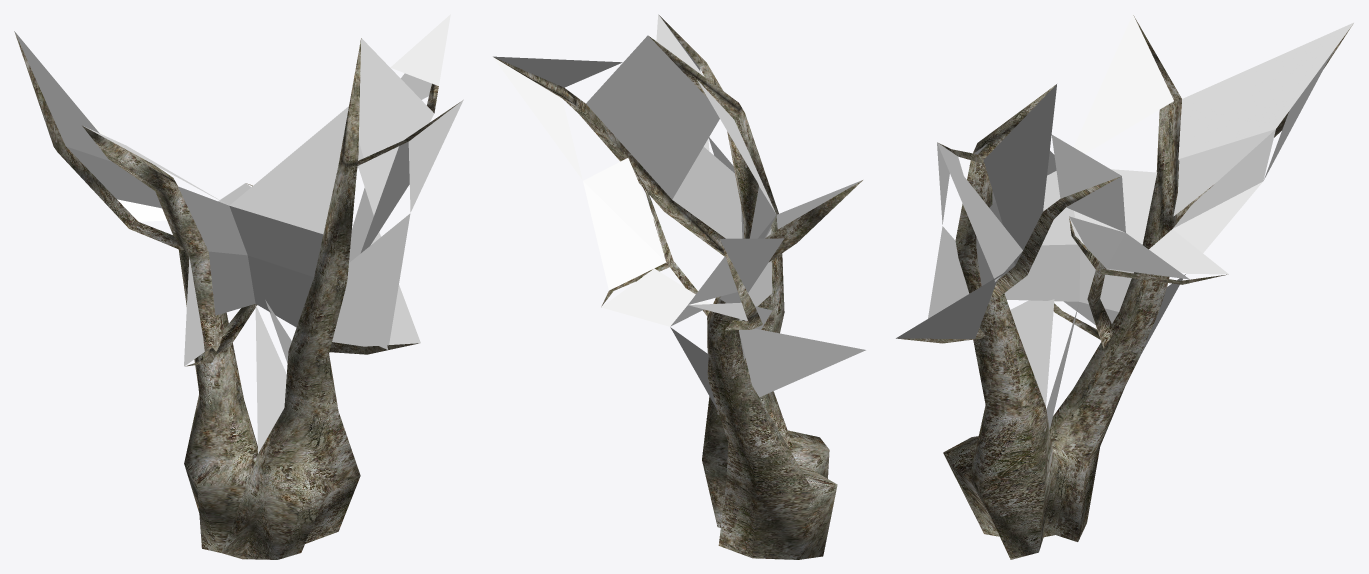
Rendered from poi_lair_web_base_l0.fbx.
3 renders of one model, left to right at view 1: azimuth 30°, elevation 25°; view 2: azimuth 150°, elevation 25°; view 3: azimuth 270°, elevation 25°, orthographic. The views are drawn at different scales.
Visible parts, largest first — view 1: mesh_node; view 2: mesh_node; view 3: mesh_node.
Part boxes in pixels (x1,y1,x2,y2): mesh_node: [14, 14, 463, 559]; mesh_node: [493, 14, 865, 559]; mesh_node: [896, 14, 1353, 559].
Bounding box in the file's own units: 3.65 × 4.48 × 3.73.
